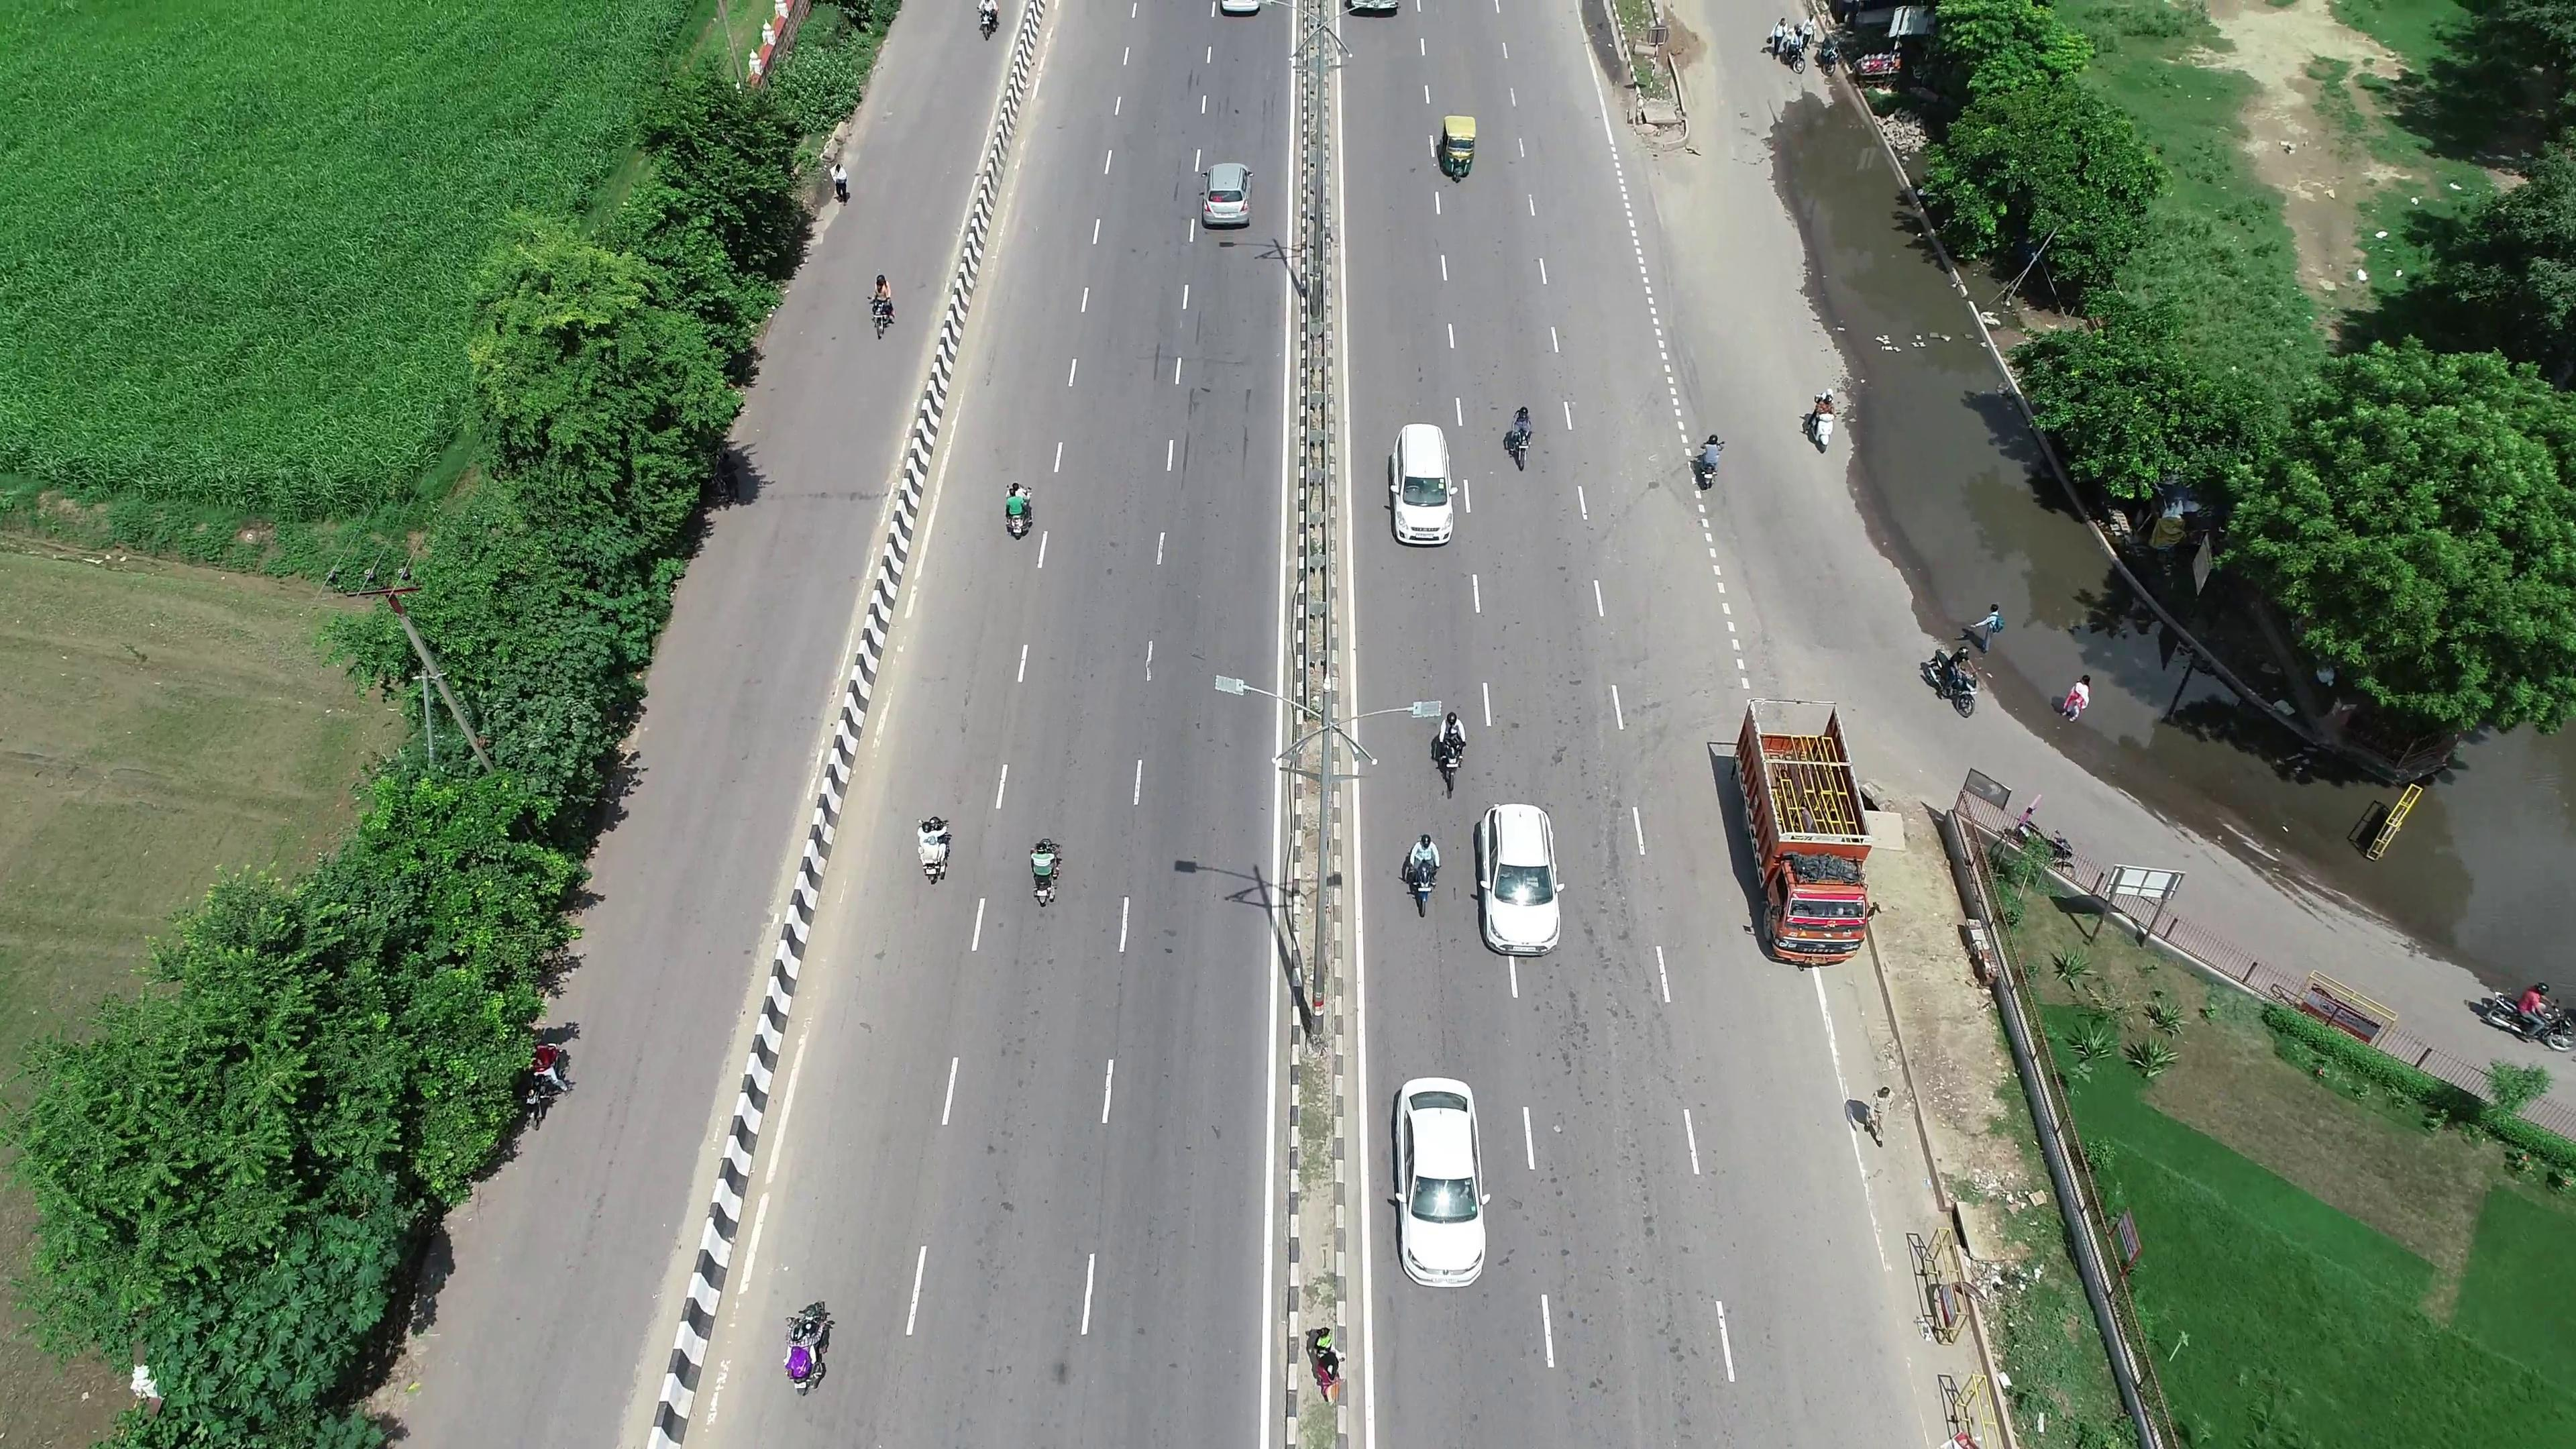Waterlogging: (1886, 425, 2109, 660), (1776, 133, 1950, 419)
